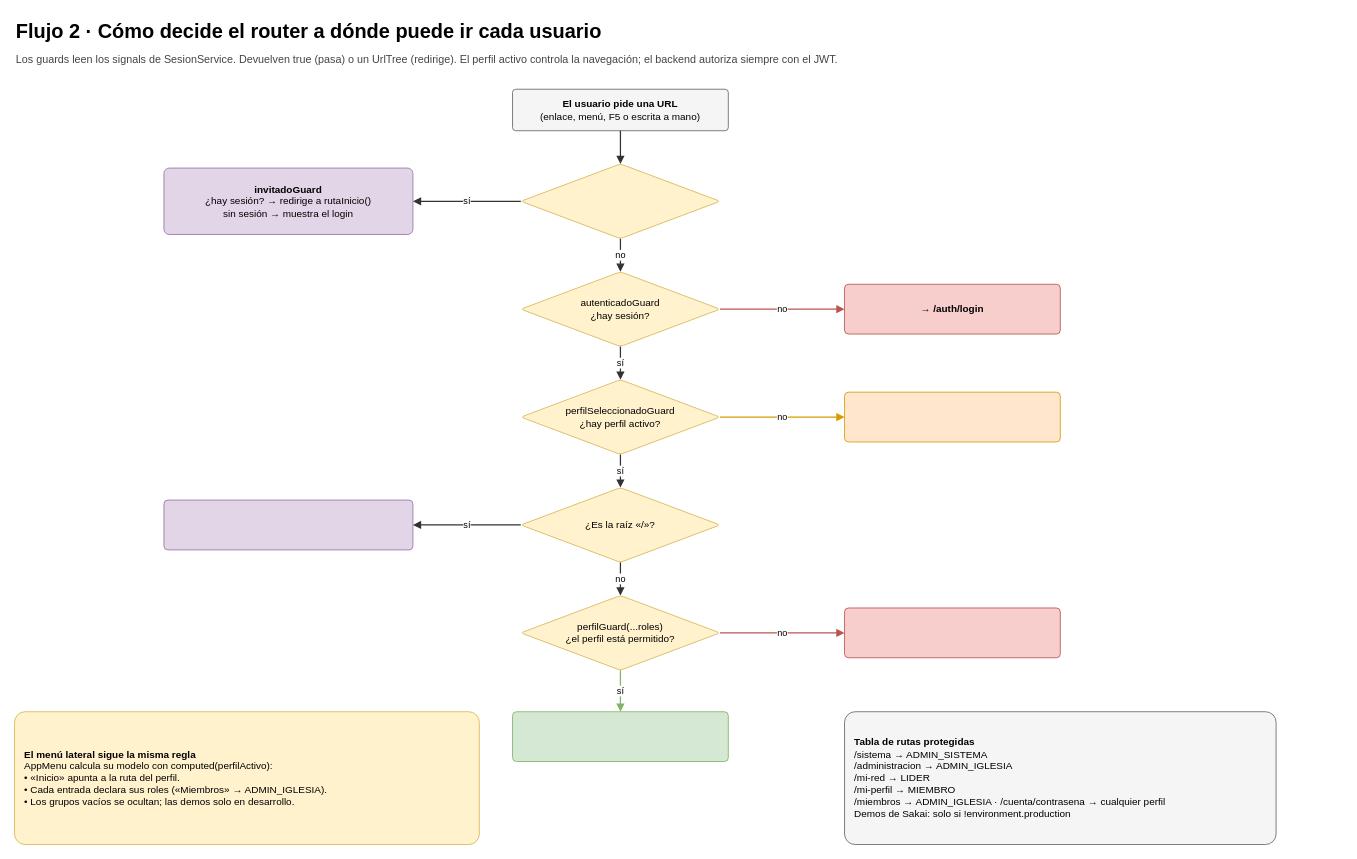
Image size: 1357x859. Some labels were removed from this diagram. Each missing label, with the centre of its shape:
inicioRedirect → RUTA_INICIO_POR_ROL[perfil]: pixel 288 524
Se muestra la página dentro del layout (topbar + menú): pixel 620 736
¿Es /auth/login?: pixel 620 201
→ /auth/acceso-denegado «Ir a mi inicio» · «Cambiar perfil»: pixel 952 632
→ /auth/seleccionar-perfil (una tarjeta por rol): pixel 952 416
